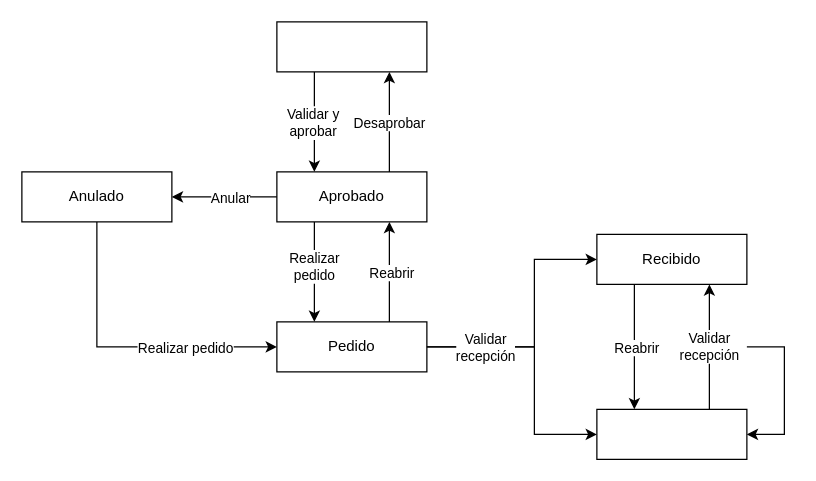
This 816x481 diagram has some shape labels left out. The centre of each missing label's shape, as x and y in pixels:
"Borrador" belongs at [351,46].
"Recibido parcialmente" belongs at [671,433].
